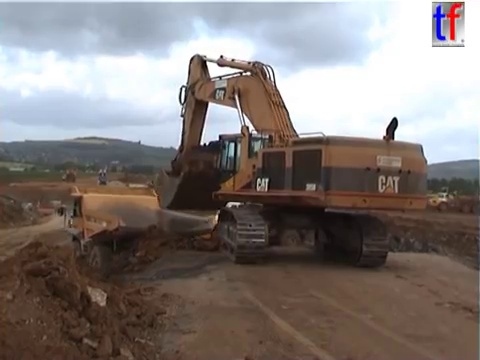excavator: (151, 51, 430, 269)
truck: (56, 182, 219, 280), (209, 191, 334, 253), (427, 190, 480, 214), (62, 167, 76, 183), (60, 170, 73, 182)
worker: (66, 212, 75, 231)
